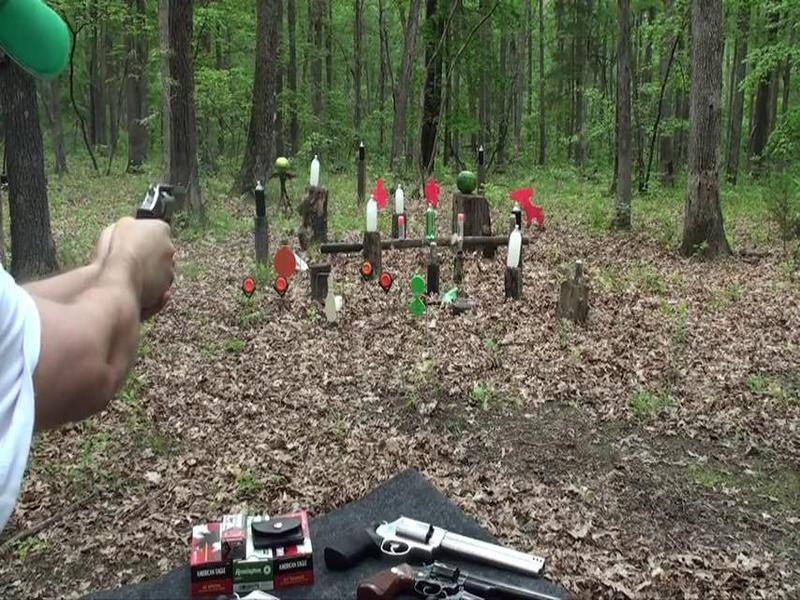Revolver: (121, 176, 204, 248)
